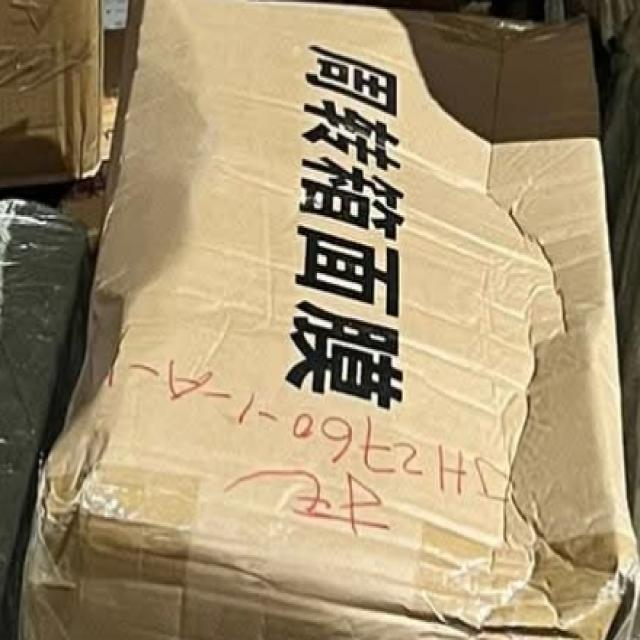carton_box: (12, 0, 640, 640)
package_damage: (33, 291, 120, 573), (443, 546, 640, 640), (441, 8, 564, 44)
